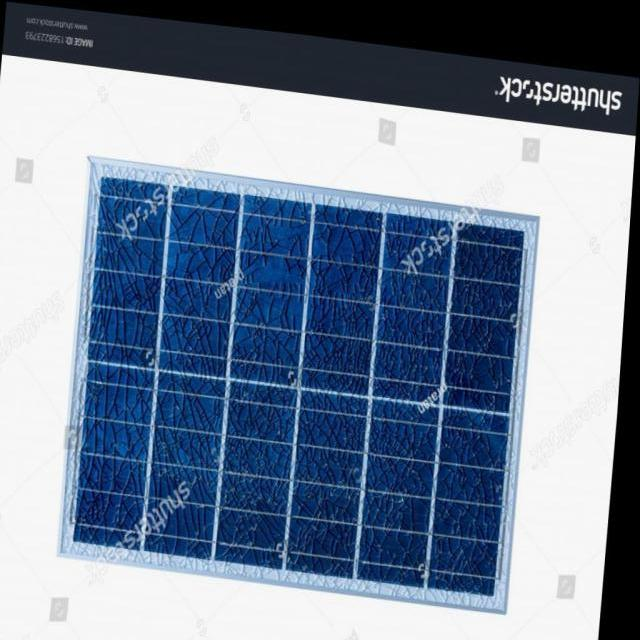cracked: (54, 165, 545, 614)
